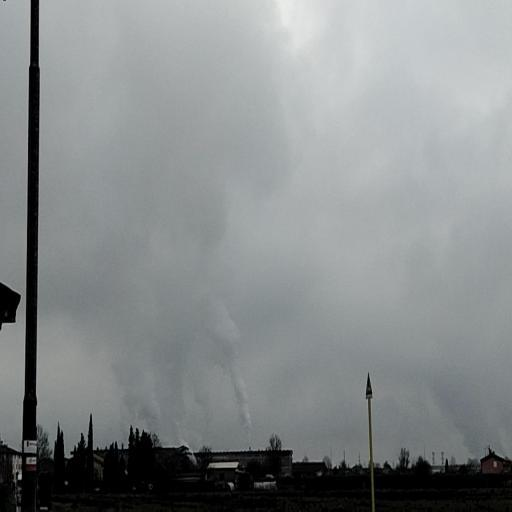leakage: (74, 208, 261, 467)
